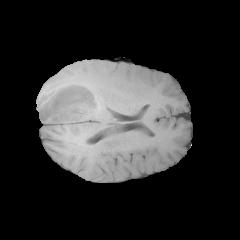glioma: (38, 78, 107, 127)
